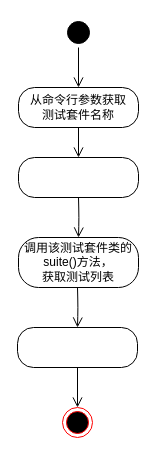
This 156x455 diagram has some shape labels left out. Here are the shapes that lost their labels. From the top down, the centre of each, then its label:
the point at 78,177: 转换为实际的 测试套件类
the point at 77,347: 依次调用每个测试 并记录测试结果
